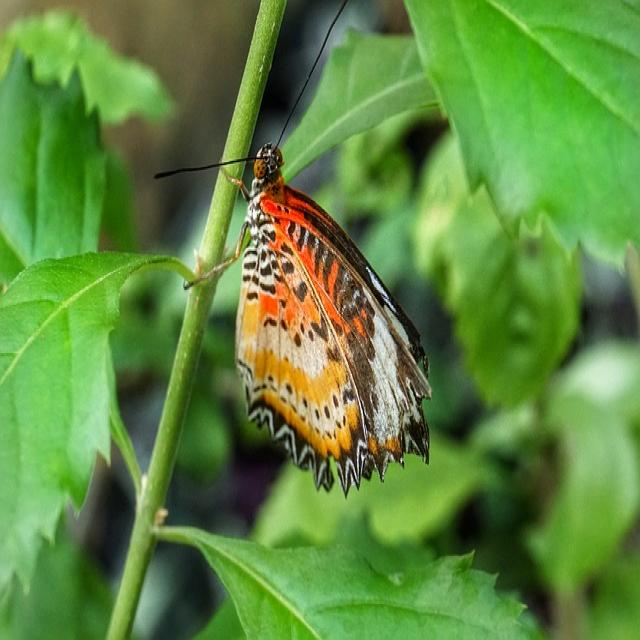butterfly: (234, 144, 432, 494)
